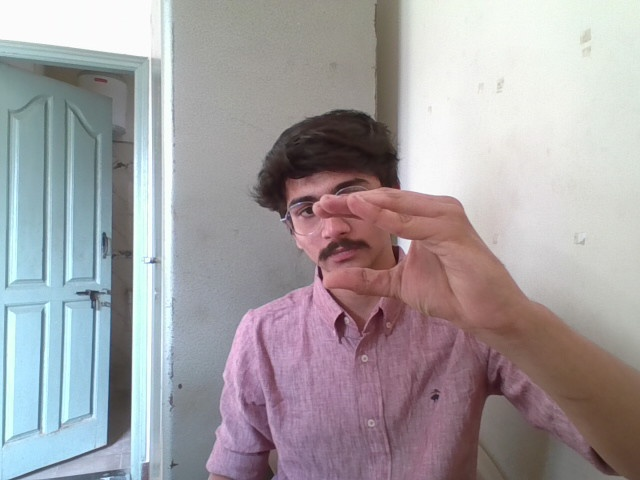no: (309, 186, 556, 342)
